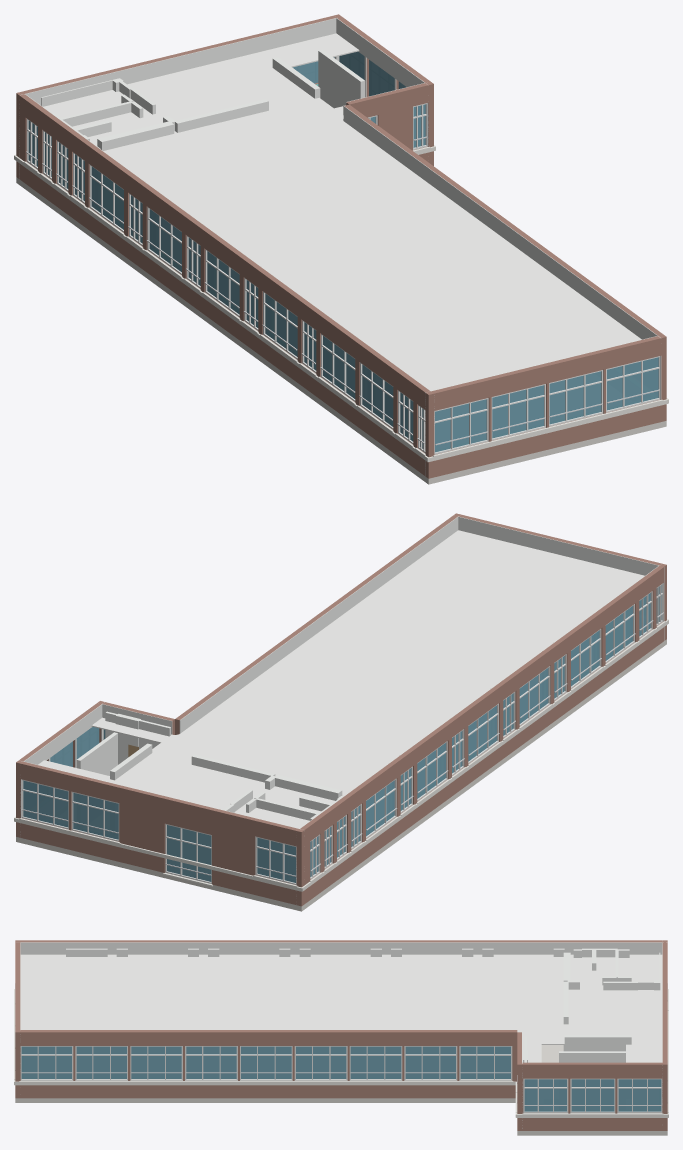
The model's file is info_2F.glb.
The picture shows the model from 3 angles, top to bottom: view 1: azimuth 30°, elevation 25°; view 2: azimuth 150°, elevation 25°; view 3: azimuth 270°, elevation 25°; orthographic projection. The views are drawn at different scales.
Visible parts, largest first — view 1: info_2F__ceil, info_2F__brick, info_2F__glass, info_2F__wallIn, info_2F__frameW, info_2F__white, info_2F__corrFloor, info_2F__rail; view 2: info_2F__ceil, info_2F__brick, info_2F__wallIn, info_2F__glass, info_2F__frameW, info_2F__white, info_2F__corrFloor, info_2F__rail; view 3: info_2F__ceil, info_2F__brick, info_2F__glass, info_2F__wallIn, info_2F__frameW, info_2F__white, info_2F__corrFloor, info_2F__rail.
Boxes of the visible parts, x1=… form: info_2F__ceil: x1=43, y1=33, x2=641, y2=390; info_2F__brick: x1=16, y1=14, x2=666, y2=478; info_2F__glass: x1=28, y1=51, x2=658, y2=452; info_2F__wallIn: x1=19, y1=18, x2=661, y2=475; info_2F__frameW: x1=26, y1=103, x2=660, y2=454; info_2F__white: x1=14, y1=145, x2=668, y2=462; info_2F__corrFloor: x1=16, y1=177, x2=666, y2=484; info_2F__rail: x1=26, y1=136, x2=660, y2=445; info_2F__ceil: x1=38, y1=530, x2=644, y2=828; info_2F__brick: x1=16, y1=513, x2=666, y2=906; info_2F__wallIn: x1=19, y1=516, x2=664, y2=904; info_2F__glass: x1=23, y1=585, x2=661, y2=882; info_2F__frameW: x1=21, y1=583, x2=663, y2=884; info_2F__white: x1=14, y1=619, x2=668, y2=891; info_2F__corrFloor: x1=16, y1=639, x2=666, y2=911; info_2F__rail: x1=21, y1=612, x2=663, y2=876; info_2F__ceil: x1=20, y1=954, x2=662, y2=1062; info_2F__brick: x1=15, y1=940, x2=667, y2=1130; info_2F__glass: x1=21, y1=1046, x2=661, y2=1111; info_2F__wallIn: x1=20, y1=942, x2=666, y2=1128; info_2F__frameW: x1=20, y1=1046, x2=662, y2=1113; info_2F__white: x1=14, y1=989, x2=668, y2=1117; info_2F__corrFloor: x1=15, y1=1045, x2=667, y2=1135; info_2F__rail: x1=15, y1=983, x2=667, y2=1105.
Bounding box in the file's own units: 14.64 × 3.85 × 32.24.
